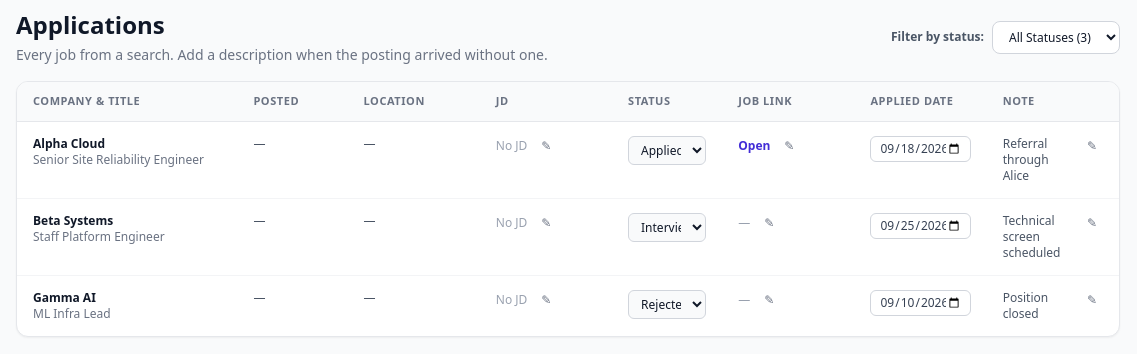
Scenario: ApplicationsPage (Phase 5c-2a) › filters applications by status using the status filter dropdown
Expected: the text "Alpha Cloud" is shown, [33,135,105,152]
# Filter to 'interview'
Select "Interview" in the dropdown named "Filter applications by status" at (1056, 37), box [992,20,1120,54]
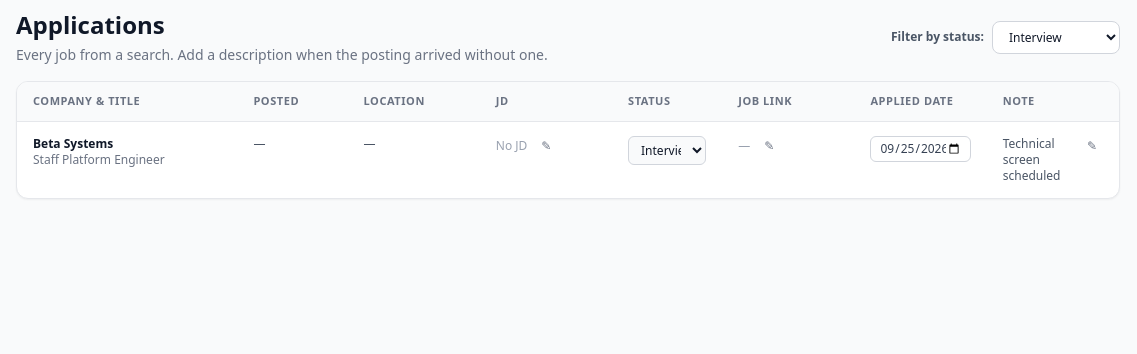
Expected: the text "Beta Systems" is shown, [33,135,113,152]
Expected: the text "Alpha Cloud" is gone
Expected: the text "Gamma AI" is gone
